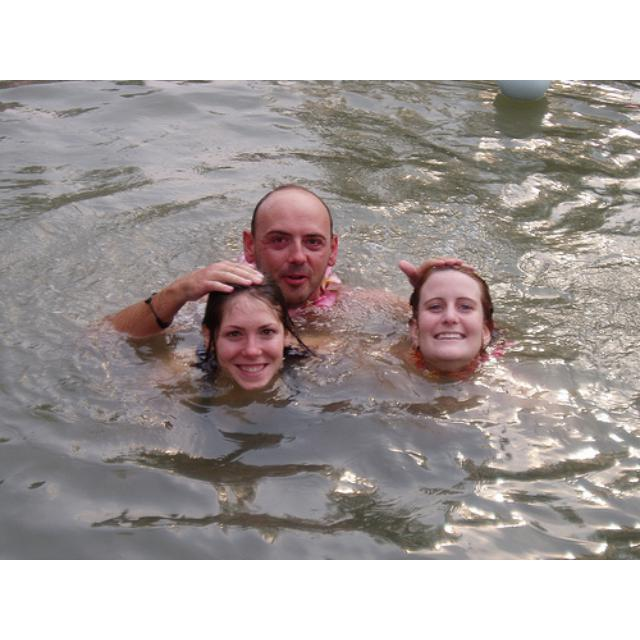human: (163, 184, 340, 305), (187, 263, 297, 396), (398, 251, 505, 376)
